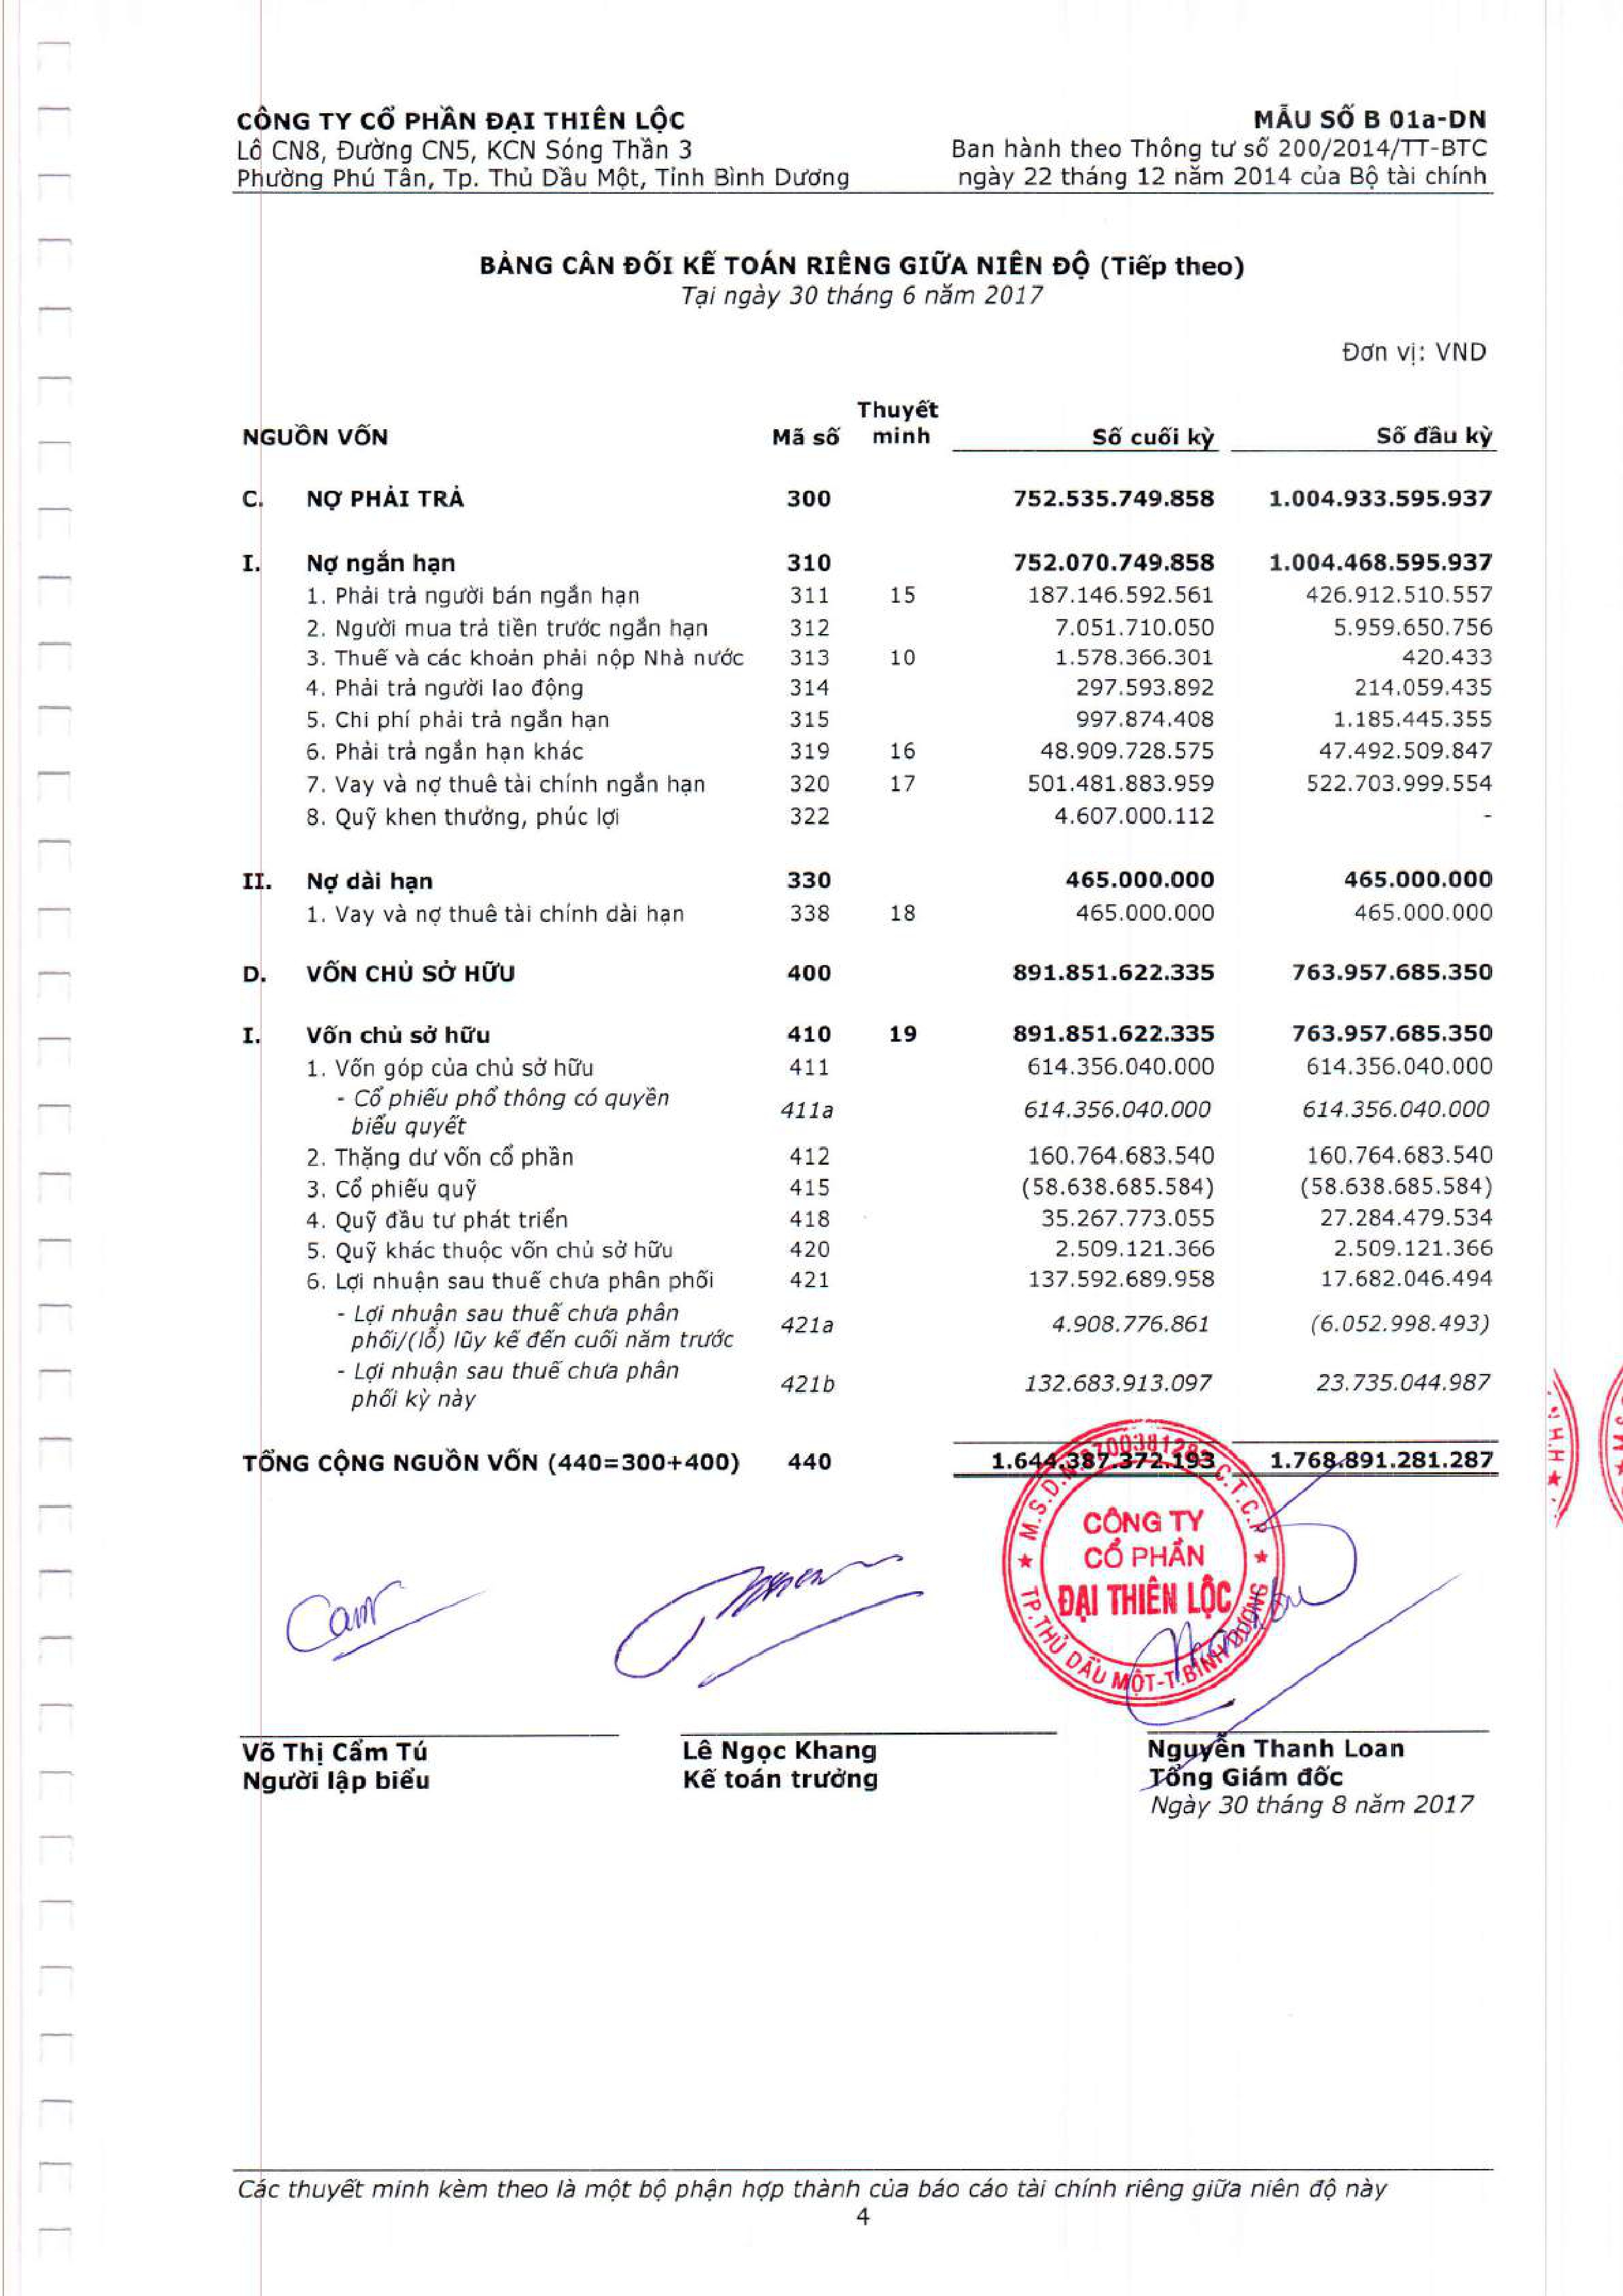table: (221, 388, 1514, 1489)
table column: (239, 388, 759, 1489), (943, 388, 1214, 1489), (1235, 388, 1505, 1489), (833, 388, 929, 1489), (761, 388, 829, 1489)
table column header: (223, 400, 1516, 460)
table row: (221, 398, 1514, 458), (221, 1401, 1514, 1460), (221, 469, 1514, 521), (221, 1069, 1514, 1116), (221, 1276, 1514, 1324), (221, 1327, 1514, 1374), (221, 881, 1514, 918), (221, 846, 1514, 881), (221, 939, 1514, 974), (221, 1001, 1514, 1036), (221, 541, 1514, 574), (221, 635, 1514, 669), (221, 1118, 1514, 1152), (221, 1213, 1514, 1246), (221, 574, 1514, 606), (221, 699, 1514, 730), (221, 792, 1514, 823), (221, 1152, 1514, 1183), (221, 606, 1514, 635), (221, 669, 1514, 699), (221, 730, 1514, 760), (221, 762, 1514, 792), (221, 1037, 1514, 1067), (221, 1183, 1514, 1213), (221, 1246, 1514, 1274)
